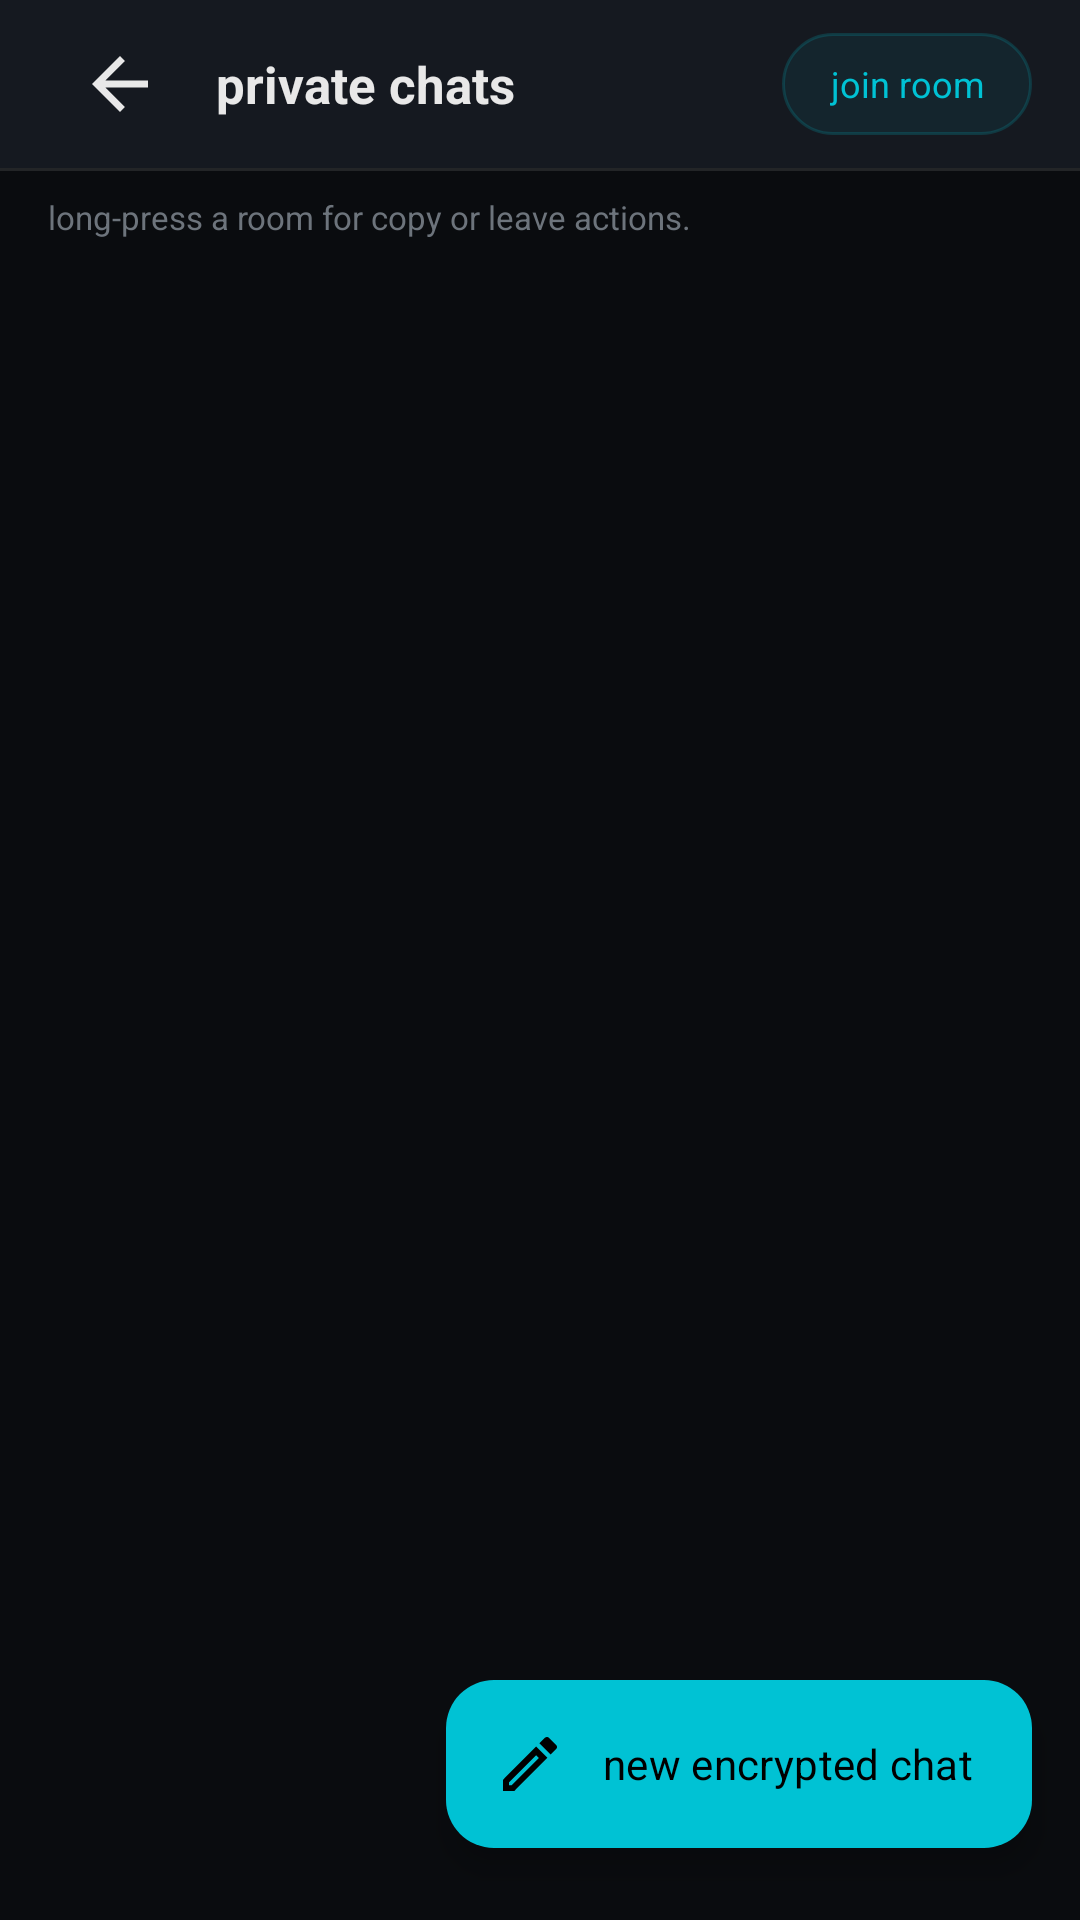

Icons on this 1080 x 1920 Android screen, each with the point to tap as (x=x, y=y):
Back: (x=120, y=84)
